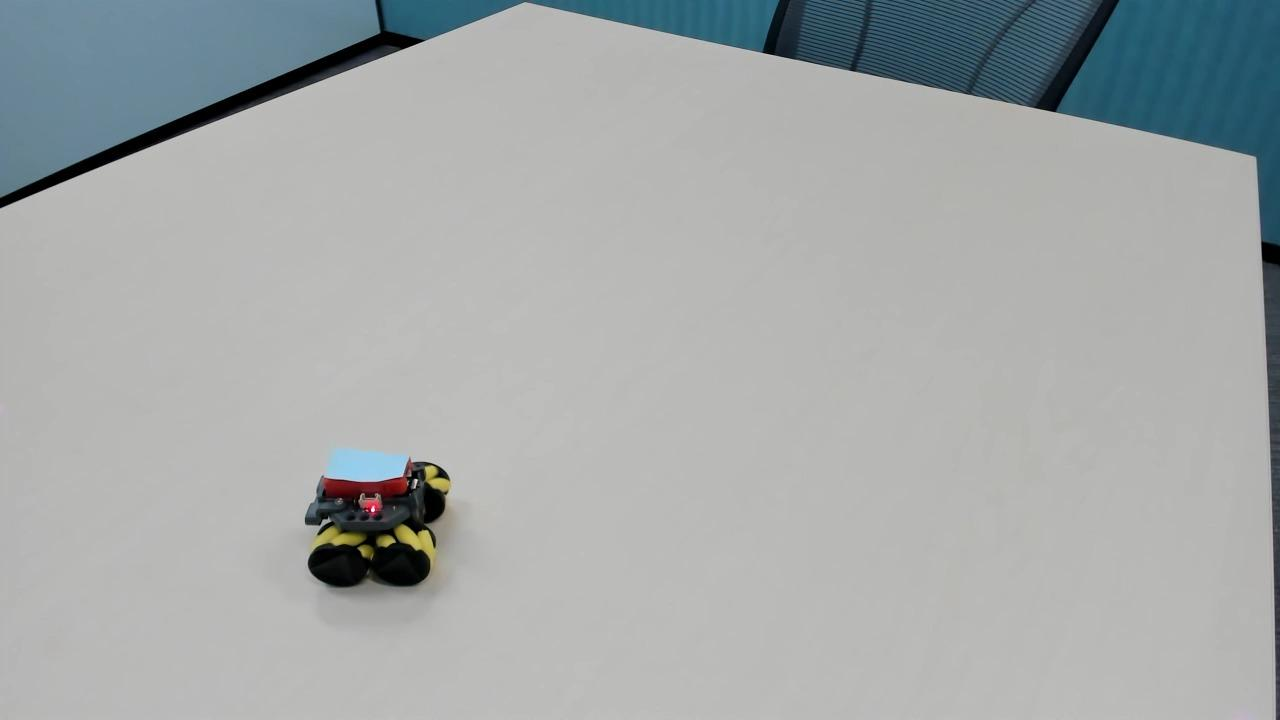B-Robot: (295, 431, 470, 604)
